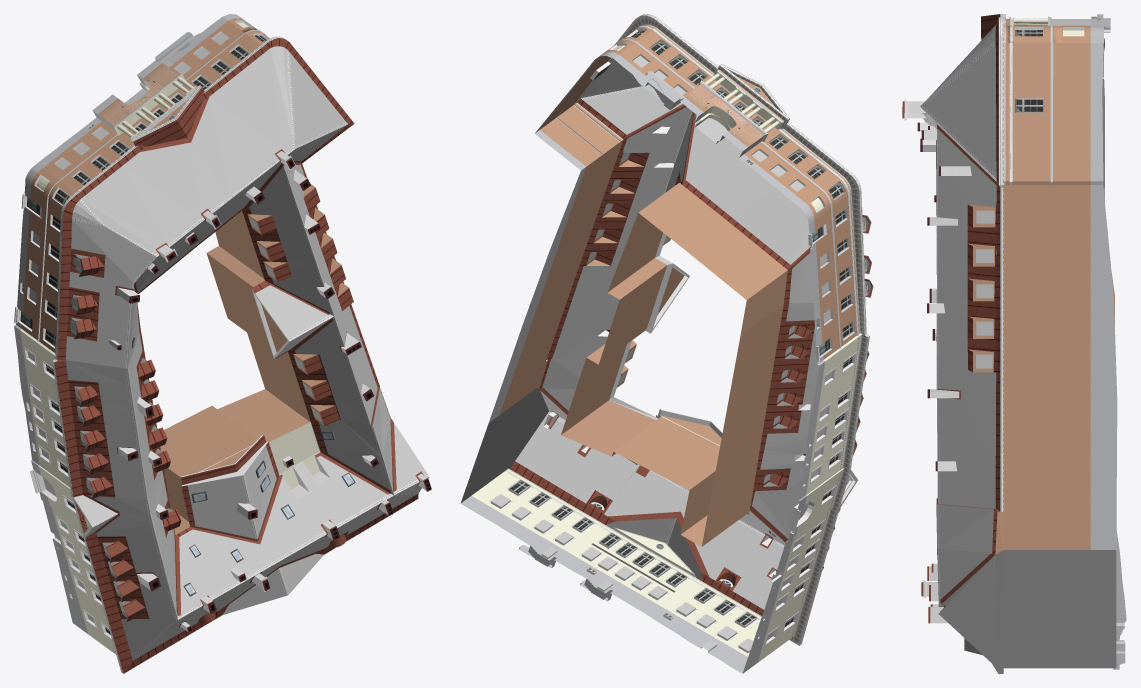
File: Kohtu_2.obj
3 renders of one model, left to right at view 1: azimuth 30°, elevation 25°; view 2: azimuth 150°, elevation 25°; view 3: azimuth 270°, elevation 25°, orthographic. The views are drawn at different scales.
Visible parts, largest first — view 1: Kohtu_2; view 2: Kohtu_2; view 3: Kohtu_2.
Part boxes in pixels (x1,y1,x2,y2): Kohtu_2: (14, 14, 431, 673); Kohtu_2: (460, 14, 873, 673); Kohtu_2: (902, 14, 1126, 673).
Bounding box in the file's own units: 45.66 × 71.74 × 20.99.
